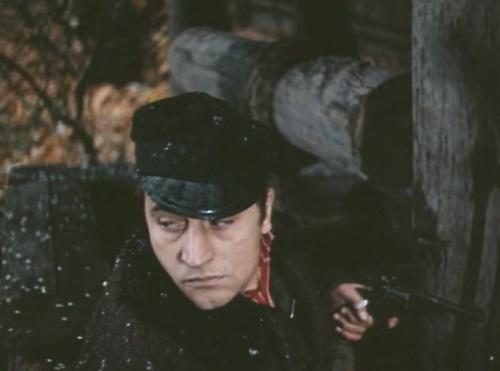Gun: (363, 275, 478, 330)
